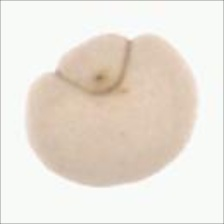L5: (44, 32, 136, 97)
L6: (18, 30, 202, 190)
